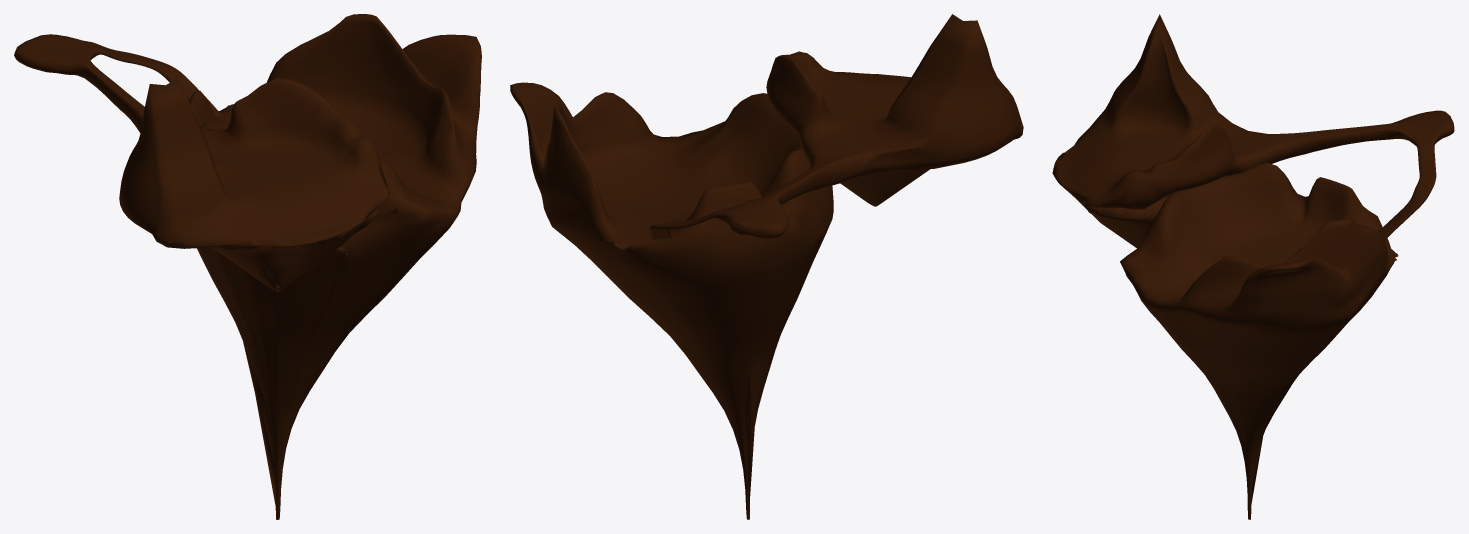
Rendered from illaInicial.fbx.
3 views of the same model, side by side, from view 1: azimuth 30°, elevation 25°; view 2: azimuth 150°, elevation 25°; view 3: azimuth 270°, elevation 25° (orthographic). The views are drawn at different scales.
Parts seen in each view (by area): view 1: IslaInicial; view 2: IslaInicial; view 3: IslaInicial.
Part boxes in pixels (<box>): IslaInicial: <box>14,14,481,519</box>; IslaInicial: <box>510,14,1023,519</box>; IslaInicial: <box>1052,14,1454,519</box>.
Size of the model in its own units: 468 by 540 by 456.
